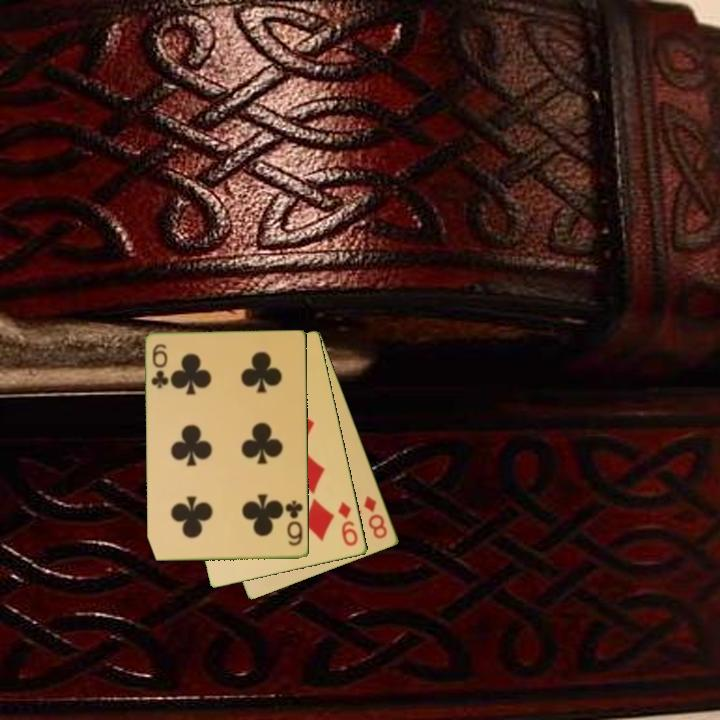6c: (282, 497, 306, 549), (148, 341, 171, 392)
8d: (360, 492, 391, 542)
9d: (335, 498, 361, 549)
